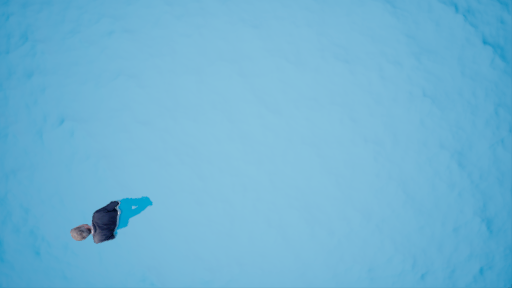person: (65, 195, 160, 245)
